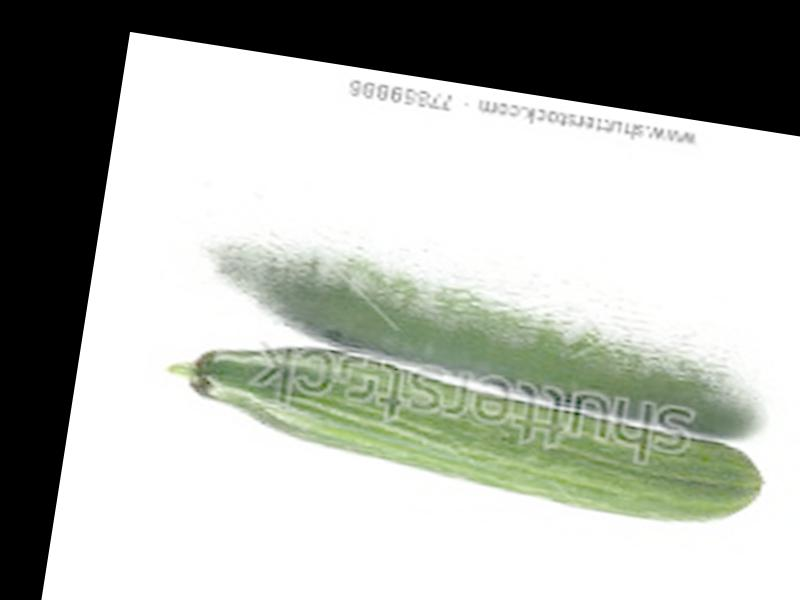Cucumber: (157, 324, 768, 537)
